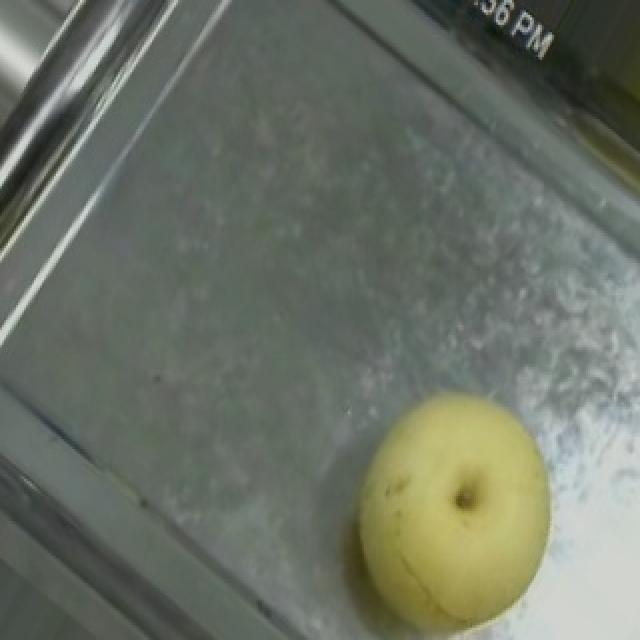Fruit: (308, 354, 582, 640)
